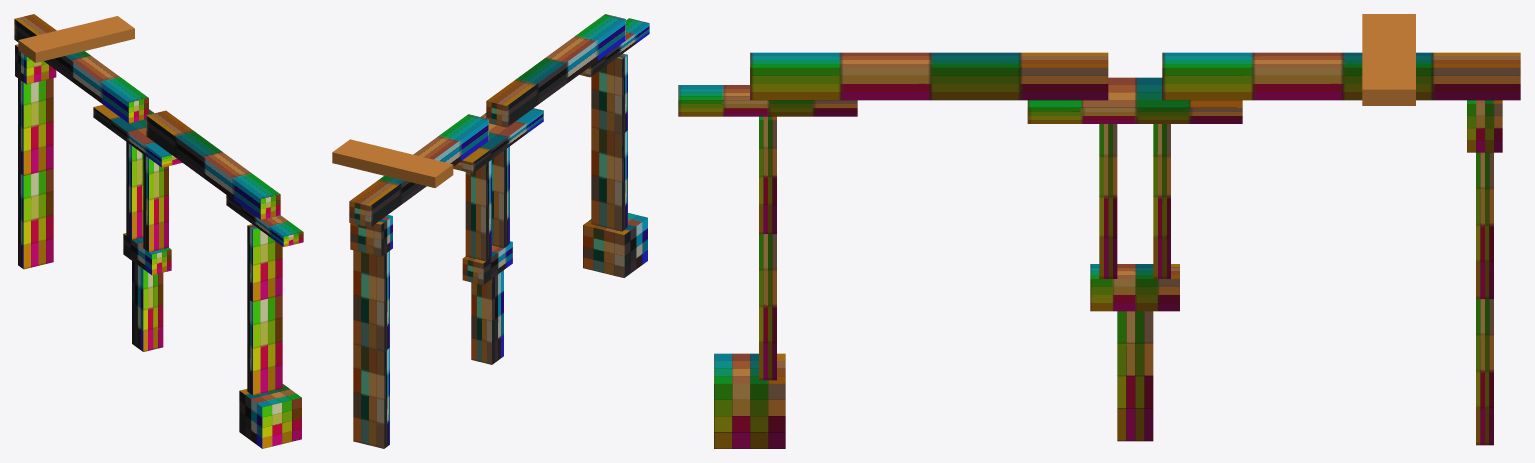
File: L2_Construction1Wood.fbx
The picture shows the model from 3 angles, left to right: view 1: azimuth 30°, elevation 25°; view 2: azimuth 150°, elevation 25°; view 3: azimuth 270°, elevation 25°; orthographic projection. The views are drawn at different scales.
Parts seen in each view (by area): view 1: D1Box7, D1Box6, D1Box12, D1Box8, D1Box9, D1Box13, D1Box15, D1Box1, D1Box14, D1Box4, D1Box5, D1Box3 (+3 smaller); view 2: D1Box7, D1Box6, D1Box12, D1Box8, D1Box9, D1Box13, D1Box15, D1Box1, D1Box14, D1Box3, D1Box5, D1Box4 (+3 smaller); view 3: D1Box7, D1Box6, D1Box5, D1Box13, D1Box15, D1Box1, D1Box11, D1Box2, D1Box4, D1Box3, D1Box12, D1Box8 (+3 smaller).
Part boxes in pixels (<box>): D1Box7: <box>146,110,280,219</box>; D1Box6: <box>14,14,148,123</box>; D1Box12: <box>247,295,282,395</box>; D1Box8: <box>18,168,53,269</box>; D1Box9: <box>18,78,53,175</box>; D1Box13: <box>239,384,301,448</box>; D1Box15: <box>18,16,134,62</box>; D1Box1: <box>132,261,163,351</box>; D1Box14: <box>247,224,282,301</box>; D1Box4: <box>143,154,168,252</box>; D1Box5: <box>93,105,182,167</box>; D1Box3: <box>126,142,143,239</box>; D1Box7: <box>486,14,625,127</box>; D1Box6: <box>349,114,488,227</box>; D1Box12: <box>591,127,627,231</box>; D1Box8: <box>353,344,389,448</box>; D1Box9: <box>353,250,389,351</box>; D1Box13: <box>583,213,647,277</box>; D1Box15: <box>332,139,453,187</box>; D1Box1: <box>471,270,503,364</box>; D1Box14: <box>591,53,627,134</box>; D1Box3: <box>465,159,491,261</box>; D1Box5: <box>453,108,543,173</box>; D1Box4: <box>492,146,509,248</box>; D1Box7: <box>750,52,1108,100</box>; D1Box6: <box>1162,52,1520,100</box>; D1Box5: <box>1027,77,1242,123</box>; D1Box13: <box>714,353,785,448</box>; D1Box15: <box>1362,14,1415,105</box>; D1Box1: <box>1117,311,1153,441</box>; D1Box11: <box>678,85,857,116</box>; D1Box2: <box>1090,264,1179,311</box>; D1Box4: <box>1099,124,1117,278</box>; D1Box3: <box>1153,124,1170,278</box>; D1Box12: <box>759,234,776,380</box>; D1Box8: <box>1476,299,1493,445</box>.
Size of what is drawn, in the model's own units: 10 by 24 by 47.
